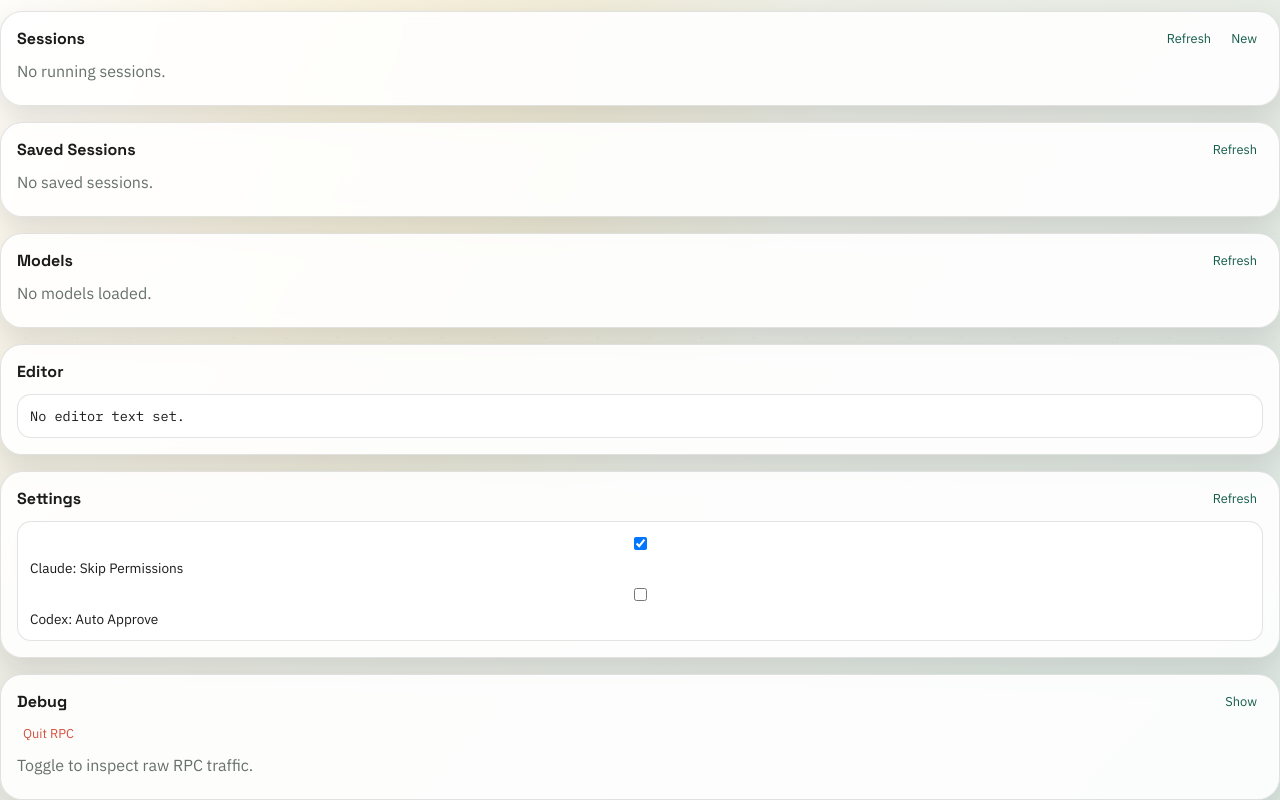
Test: Sidebar › New Session Creation Form › toggles new session form visibility with New/Close button
Expected: the field labelled "CWD" is not shown
Note: Click "New" to show form
Click the button "New" at coordinates (1244, 38), box [1225,29,1263,48]
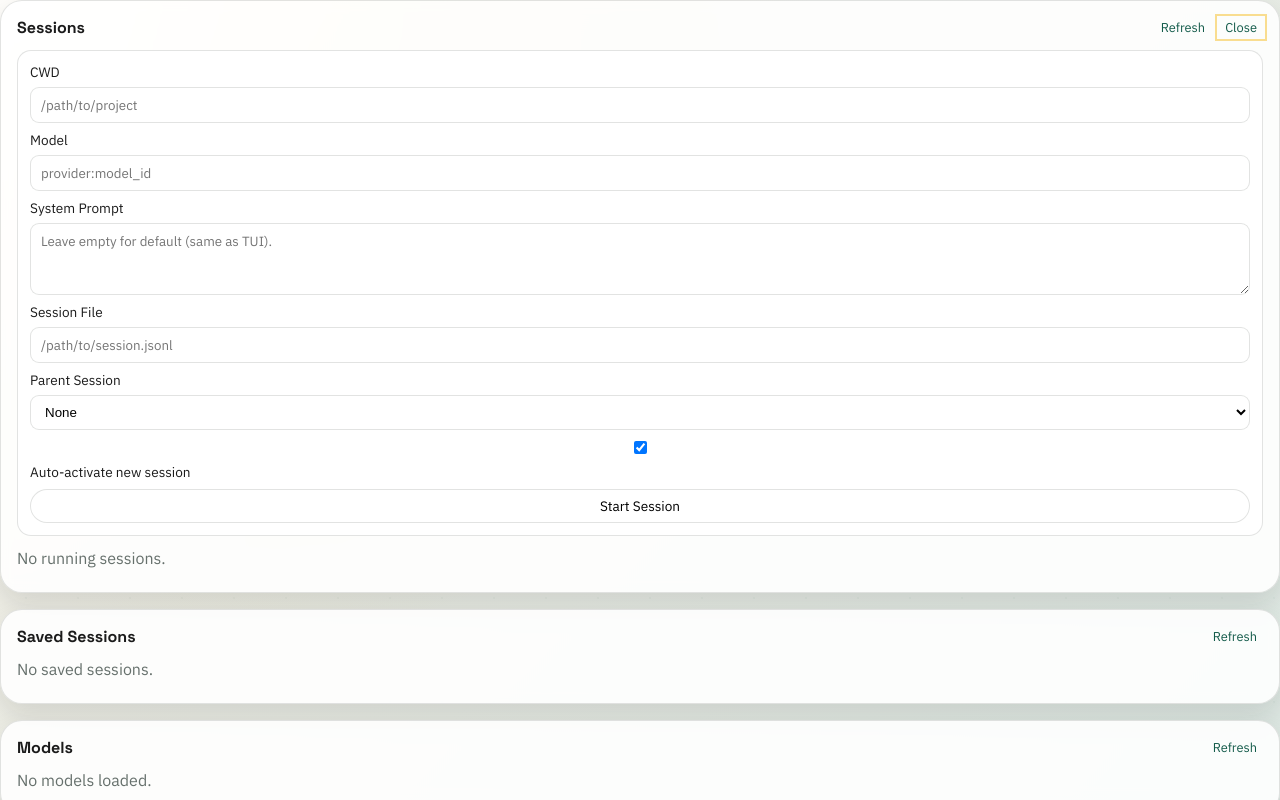
Result: the field labelled "CWD" is shown at [30,87,1250,123]
Result: the button "Close" is shown
Note: Click "Close" to hide form
Click the button "Close" at coordinates (1241, 28), box [1219,18,1263,37]
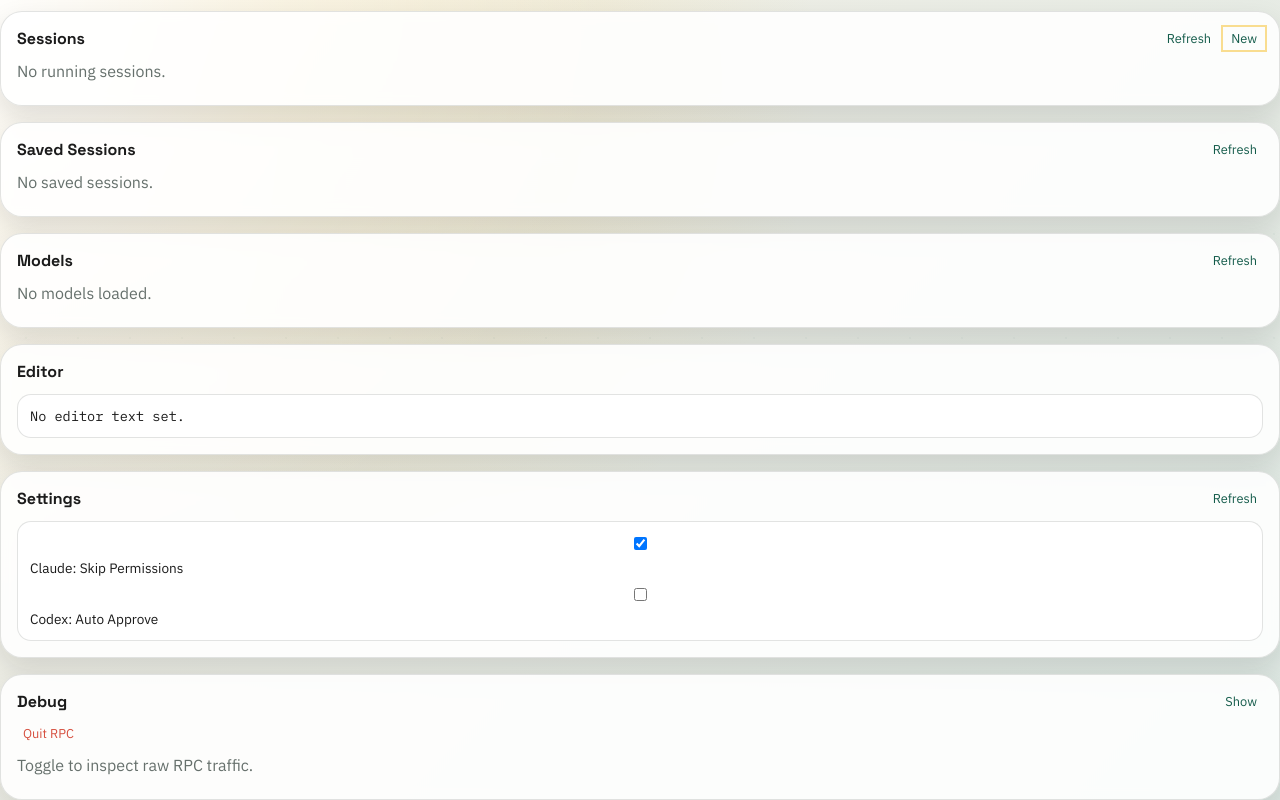
Result: the label labelled "CWD" is gone
